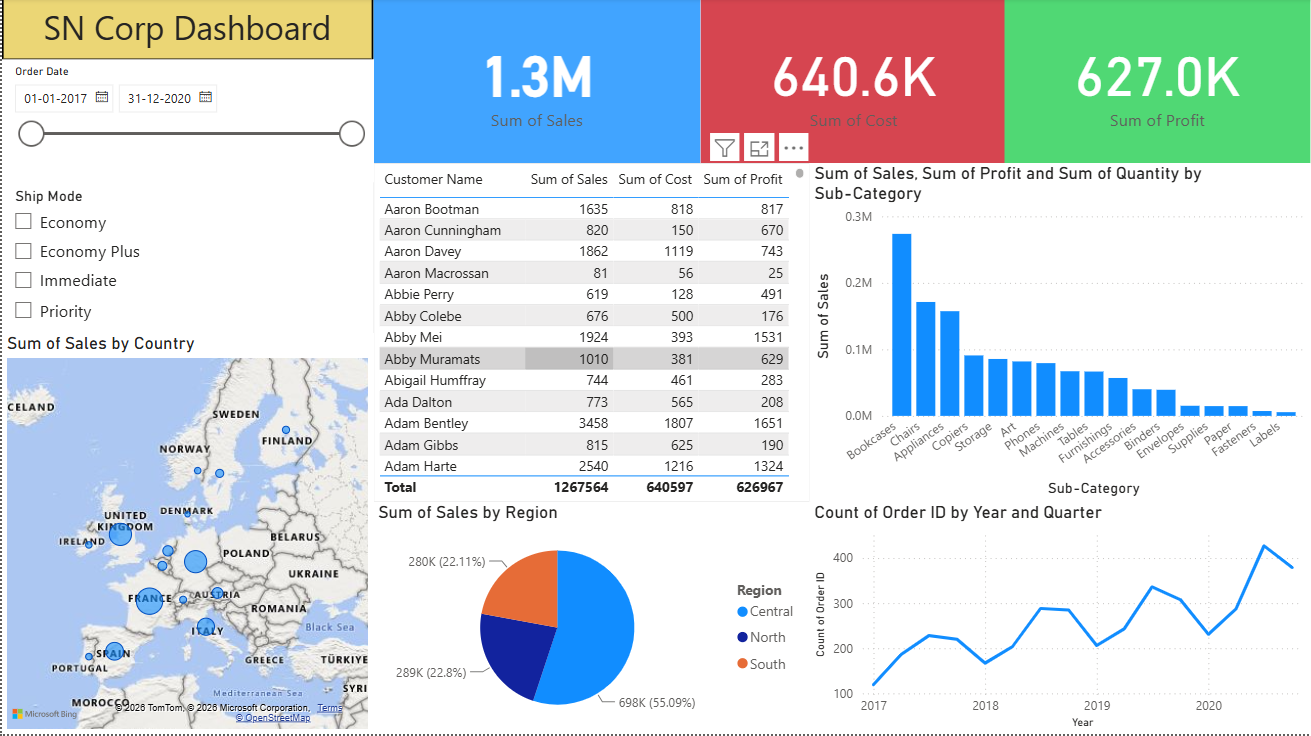

What the dashboard file says about the page in this screenshot:
{"tool":"powerbi","page":{"name":"Page 1","canvas":[1280,720],"ordinal":0},"visuals":[{"type":"card","fields":{"Values":["Sum(List of Orders.Sales)"]},"box":[363.2,0,320.4,161.4],"z":0},{"type":"card","fields":{"Values":["Sum(List of Orders.Cost)"]},"box":[683.6,0,299.6,161.4],"z":1000},{"type":"card","fields":{"Values":["Sum(List of Orders.Profit)"]},"box":[980.7,0,299.6,161.4],"z":2000},{"type":"tableEx","fields":{"Values":["List of Orders.Customer Name","Sum(List of Orders.Sales)","Sum(List of Orders.Cost)","Sum(List of Orders.Profit)"]},"box":[363.2,161.4,426.8,331.4],"z":3000},{"type":"clusteredColumnChart","fields":{"Y":["Sum(List of Orders.Sales)"],"Category":["List of Orders.Sub-Category"]},"box":[789.9,161.4,490.4,331.4],"z":4000},{"type":"lineChart","fields":{"Y":["CountNonNull(List of Orders.Order ID)"],"Category":["List of Orders.Order Date.Variation.Date Hierarchy.Year","List of Orders.Order Date.Variation.Date Hierarchy.Quarter"]},"box":[789.9,492.8,490.4,227.4],"z":5000},{"type":"pieChart","fields":{"Category":["List of Orders.Region"],"Y":["Sum(List of Orders.Sales)"]},"box":[363.2,492.8,425.5,227.4],"z":6000},{"type":"map","fields":{"Category":["List of Orders.Country"],"Size":["Sum(List of Orders.Sales)"]},"box":[0,327.7,363.2,392.5],"z":7000},{"type":"textbox","box":[0,0,363.2,61.1],"z":8000},{"type":"slicer","fields":{"Values":["List of Orders.Ship Mode"]},"box":[0,179.8,363.2,148],"z":9000},{"type":"slicer","fields":{"Values":["List of Orders.Order Date"]},"box":[0,59.9,363.2,119.8],"z":10000}]}

Visuals, with their boxes in screenshot pixels (x1, y1, x2, y2), scaled from the page's 1280x720 canvas onto the 1311x736 screenshot:
card - Sum(List of Orders.Sales): {"left": 372, "top": 0, "right": 700, "bottom": 165}
card - Sum(List of Orders.Cost): {"left": 700, "top": 0, "right": 1007, "bottom": 165}
card - Sum(List of Orders.Profit): {"left": 1004, "top": 0, "right": 1310, "bottom": 165}
tableEx - List of Orders.Customer Name x Sum(List of Orders.Sales): {"left": 372, "top": 165, "right": 809, "bottom": 504}
clusteredColumnChart - Sum(List of Orders.Sales) x List of Orders.Sub-Category: {"left": 809, "top": 165, "right": 1310, "bottom": 504}
lineChart - CountNonNull(List of Orders.Order ID) x List of Orders.Order Date.Variation.Date Hierarchy.Year: {"left": 809, "top": 504, "right": 1310, "bottom": 735}
pieChart - List of Orders.Region x Sum(List of Orders.Sales): {"left": 372, "top": 504, "right": 808, "bottom": 735}
map - List of Orders.Country x Sum(List of Orders.Sales): {"left": 0, "top": 335, "right": 372, "bottom": 735}
textbox: {"left": 0, "top": 0, "right": 372, "bottom": 62}
slicer - List of Orders.Ship Mode: {"left": 0, "top": 184, "right": 372, "bottom": 335}
slicer - List of Orders.Order Date: {"left": 0, "top": 61, "right": 372, "bottom": 184}
